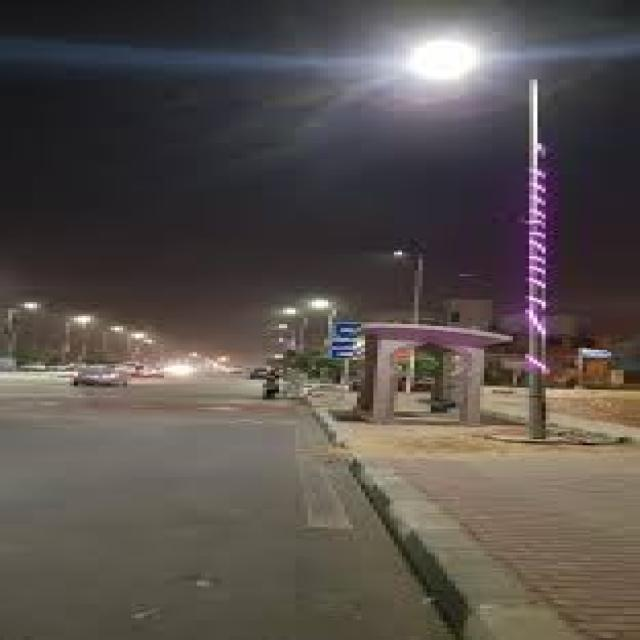Street Light: (402, 38, 554, 441), (4, 302, 37, 376), (58, 316, 90, 372)
